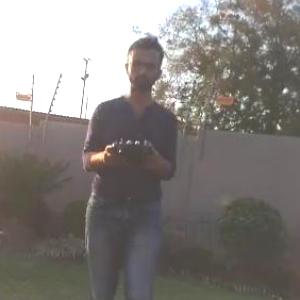follow: (77, 27, 184, 299)
